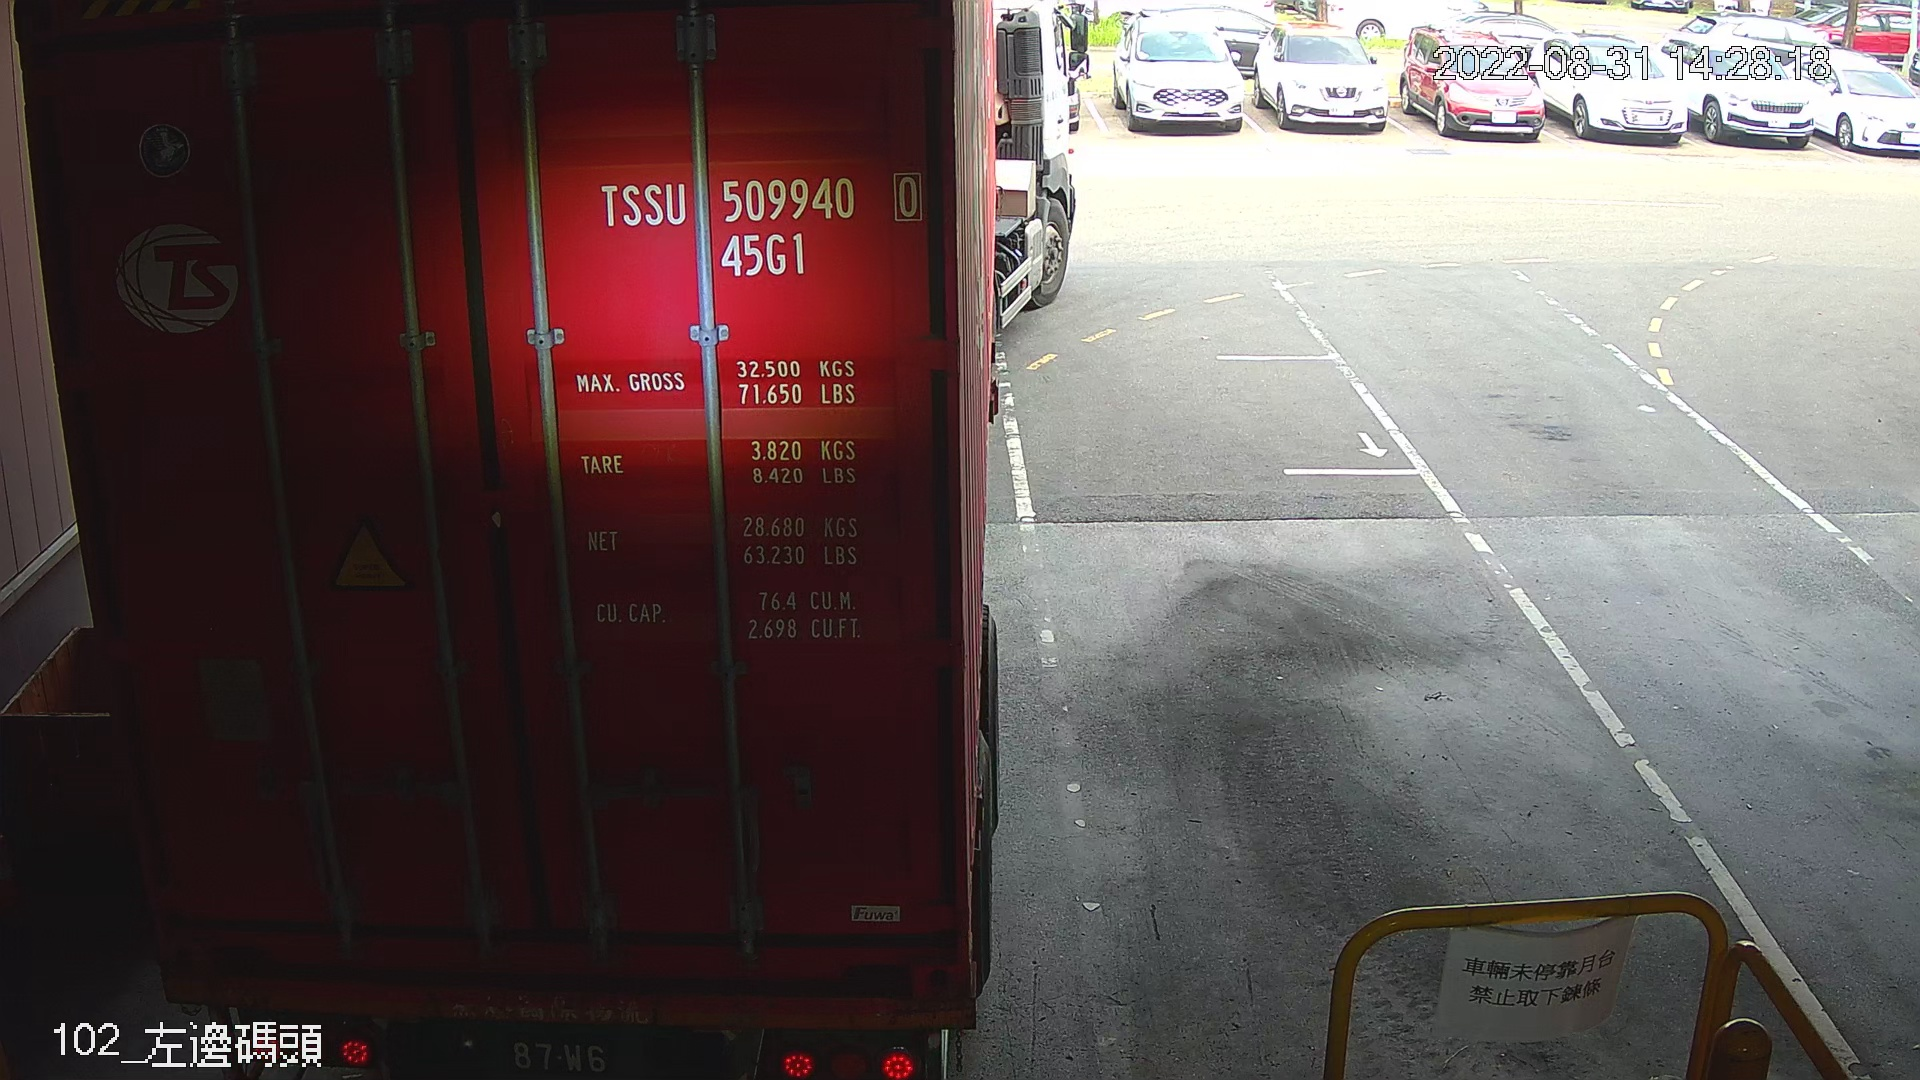container: (584, 160, 934, 287)
